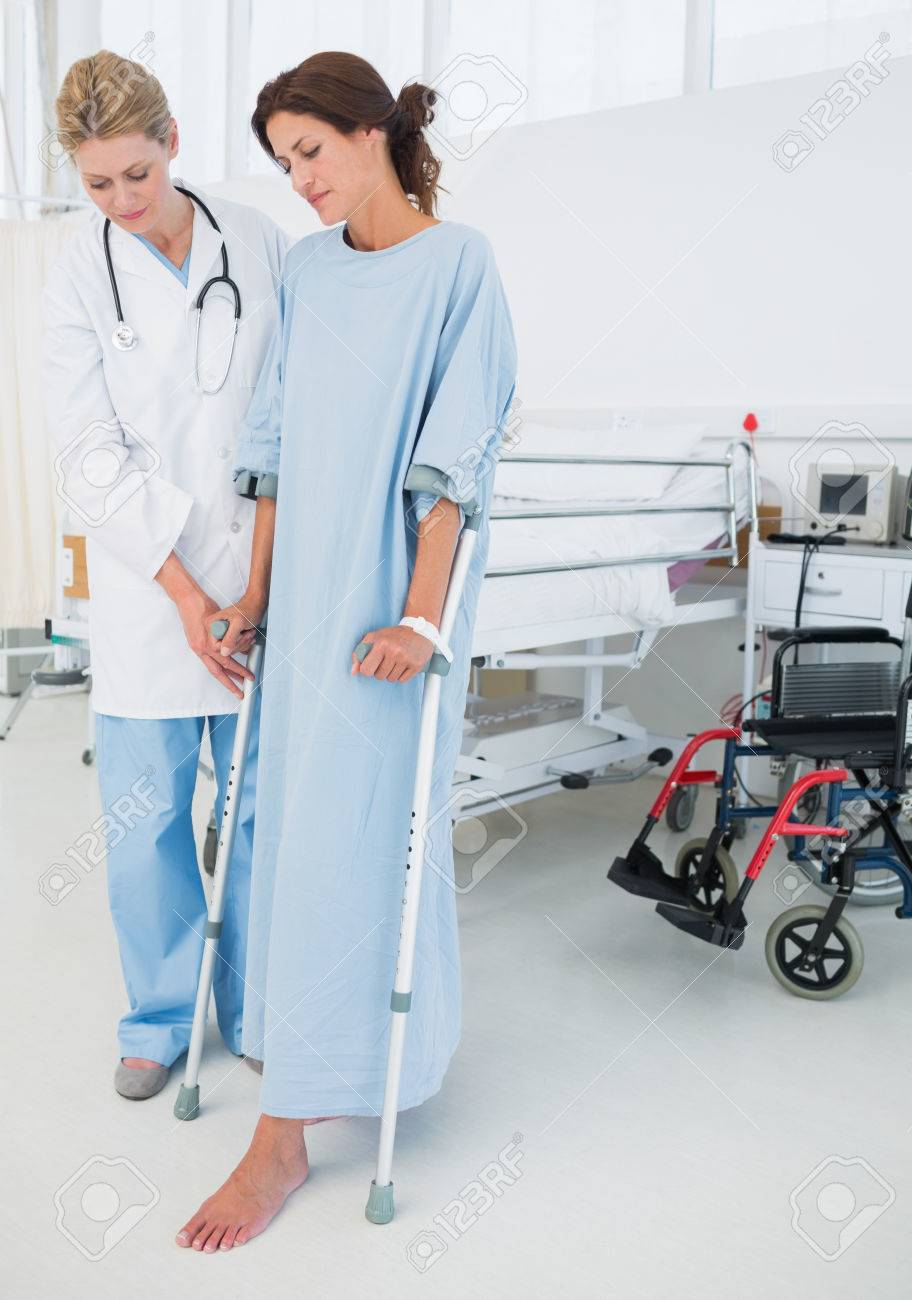crutches: (175, 50, 516, 1257)
